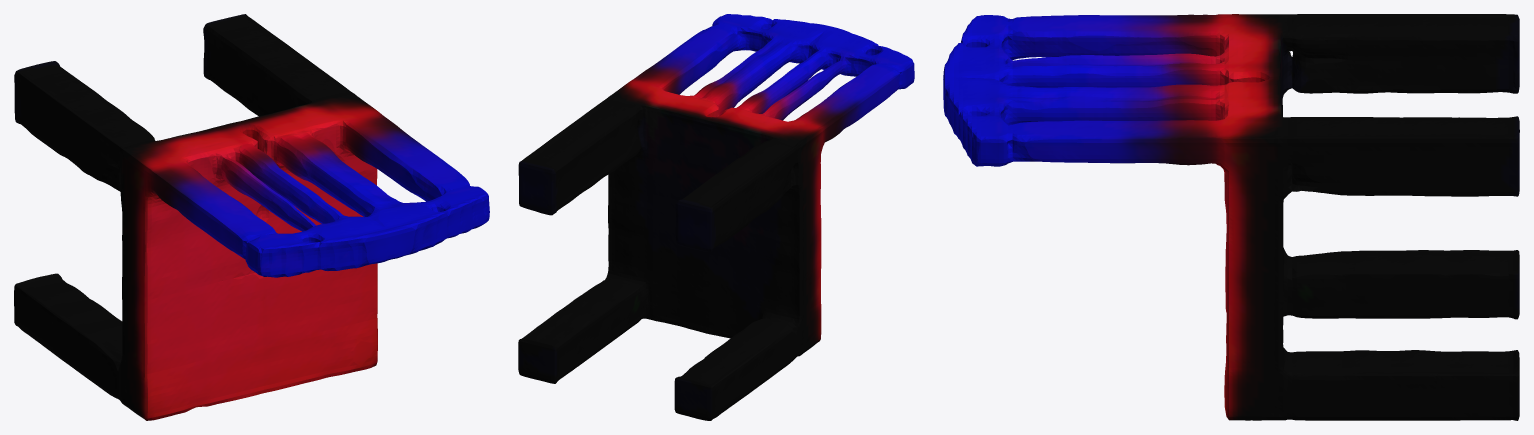
Rendered from a_chair_cyber.glb.
3 views of the same model, side by side, from view 1: azimuth 30°, elevation 25°; view 2: azimuth 150°, elevation 25°; view 3: azimuth 270°, elevation 25° (orthographic). The views are drawn at different scales.
Parts seen in each view (by area): view 1: 0.ply; view 2: 0.ply; view 3: 0.ply.
Part boxes in pixels (box(x1,y1,x2,y2)): 0.ply: box(14, 14, 489, 420); 0.ply: box(518, 14, 914, 420); 0.ply: box(943, 14, 1519, 420).
Size of the model in its own units: 1.03 by 1.08 by 1.98.
